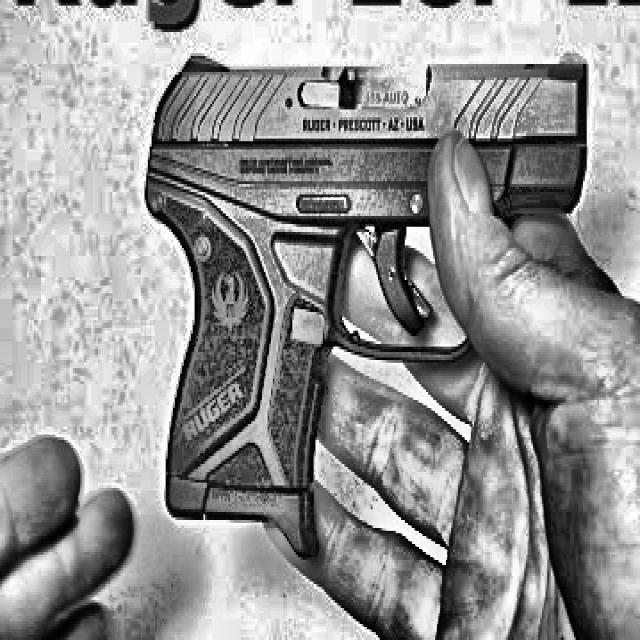Ruger: (143, 51, 588, 557)
